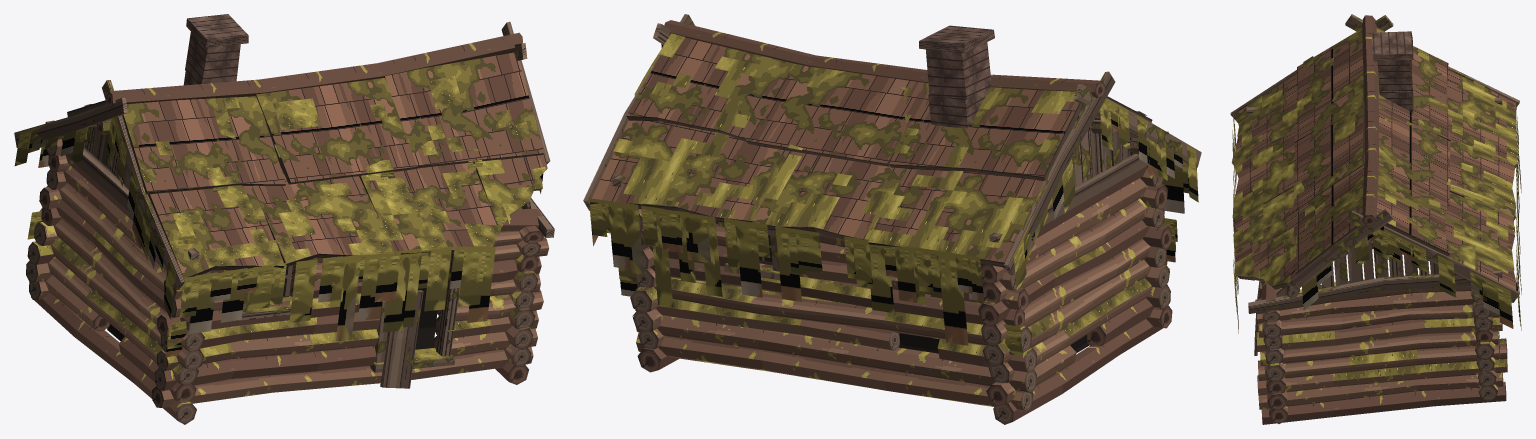
The model's file is SM_SW16_SunkenHut.fbx.
3 views of the same model, side by side, from view 1: azimuth 30°, elevation 25°; view 2: azimuth 150°, elevation 25°; view 3: azimuth 270°, elevation 25° (orthographic). The views are drawn at different scales.
Parts seen in each view (by area): view 1: SW16a_Roof, SW16a_LogWall, SW16a_Plants, SW16a_Moss, SW16a_Planks, SW16a_Props; view 2: SW16a_LogWall, SW16a_Roof, SW16a_Plants, SW16a_Moss, SW16a_Props, SW16a_Planks; view 3: SW16a_Roof, SW16a_LogWall, SW16a_Moss, SW16a_Planks, SW16a_Props, SW16a_Plants.
Boxes of the visible parts, x1,y1,x2,y2 form: SW16a_Roof: (123,52,547,277); SW16a_LogWall: (31,32,548,420); SW16a_Plants: (14,116,543,357); SW16a_Moss: (34,75,545,373); SW16a_Planks: (14,21,554,388); SW16a_Props: (26,14,554,424); SW16a_LogWall: (635,20,1168,421); SW16a_Roof: (589,37,1078,262); SW16a_Plants: (589,44,1198,356); SW16a_Moss: (613,33,1169,367); SW16a_Props: (583,23,1172,424); SW16a_Planks: (583,14,1201,280); SW16a_Roof: (1232,28,1518,291); SW16a_LogWall: (1255,15,1507,424); SW16a_Moss: (1231,27,1517,380); SW16a_Planks: (1230,14,1519,355); SW16a_Props: (1260,14,1507,423); SW16a_Plants: (1232,95,1521,357).
Bounding box in the file's own units: 6.37 × 5.11 × 4.55.
